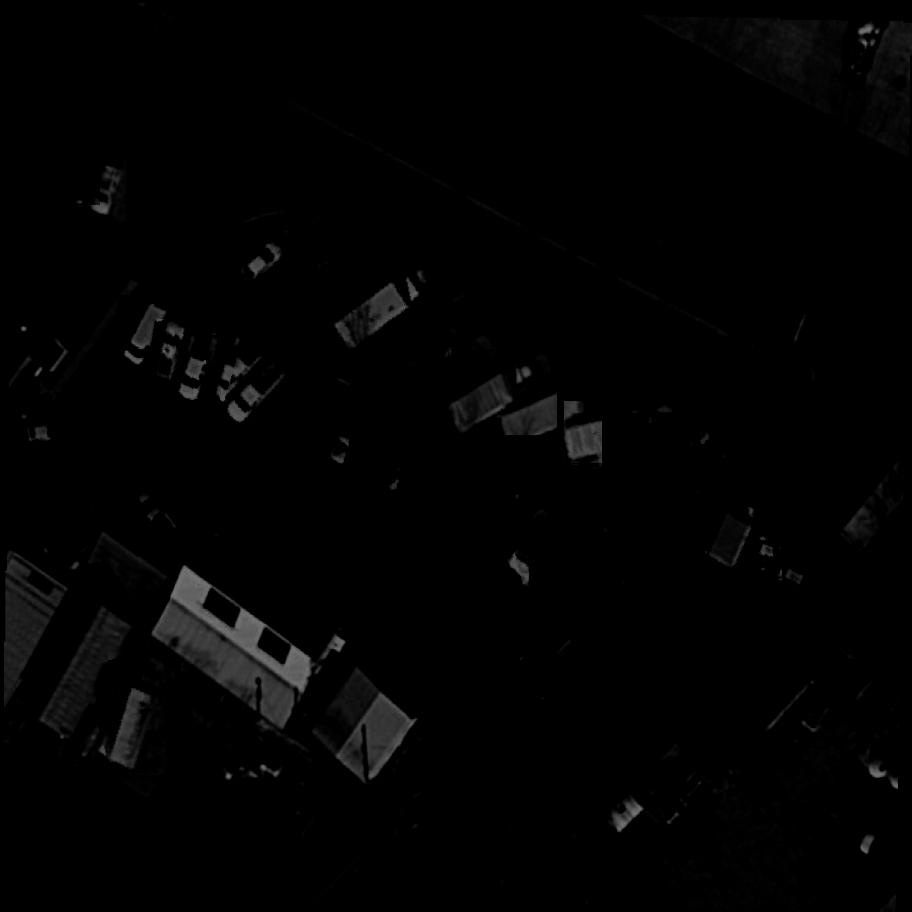large-vehicle: (602, 414, 722, 511), (329, 260, 445, 356), (447, 350, 561, 436), (499, 381, 615, 450), (106, 652, 167, 775), (527, 517, 597, 622), (739, 488, 817, 582), (564, 401, 679, 464), (631, 465, 715, 536), (504, 504, 569, 585), (779, 508, 837, 595), (707, 493, 768, 574)
small-vehicle: (222, 357, 294, 430), (116, 296, 180, 374), (290, 379, 341, 467), (174, 319, 223, 407), (127, 482, 191, 549), (231, 231, 295, 291), (41, 437, 99, 502), (327, 401, 374, 472), (212, 334, 257, 408), (445, 329, 503, 386), (376, 433, 421, 499), (400, 789, 461, 837), (551, 755, 599, 814), (530, 661, 587, 708), (88, 161, 128, 222), (157, 319, 191, 384), (64, 153, 102, 208), (11, 423, 62, 450)
